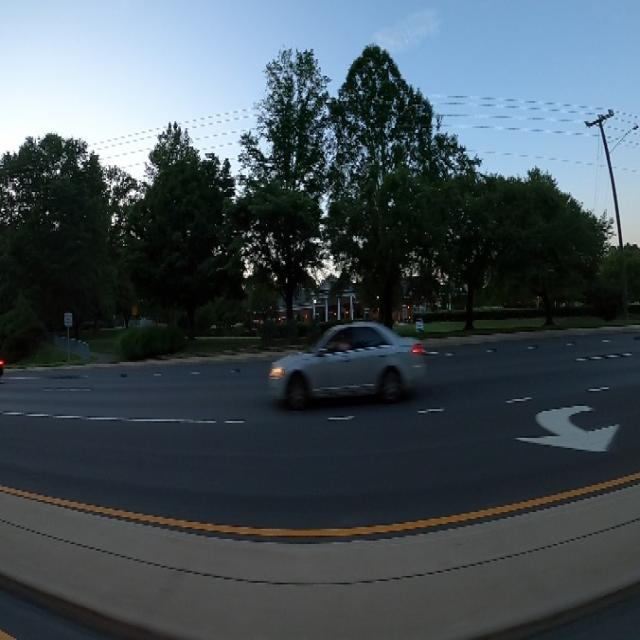cars: (258, 312, 436, 416), (0, 347, 10, 388)
